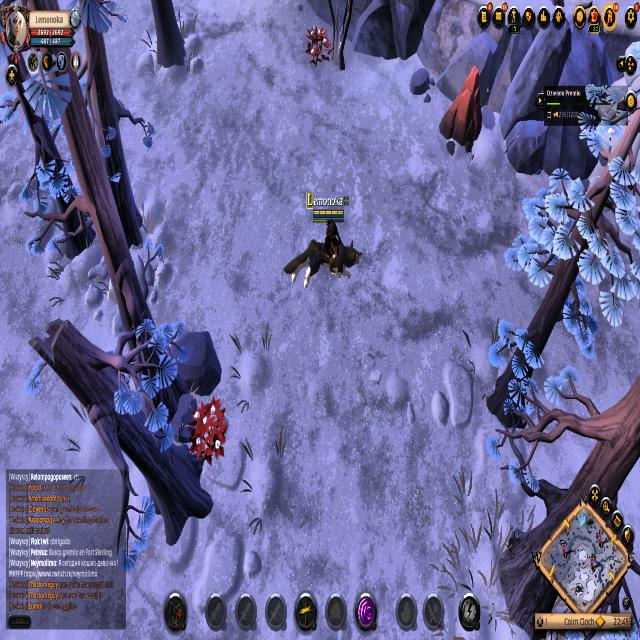fiber tier 5: (188, 396, 228, 470), (306, 24, 333, 70)
rock tier 5: (438, 61, 484, 158)
